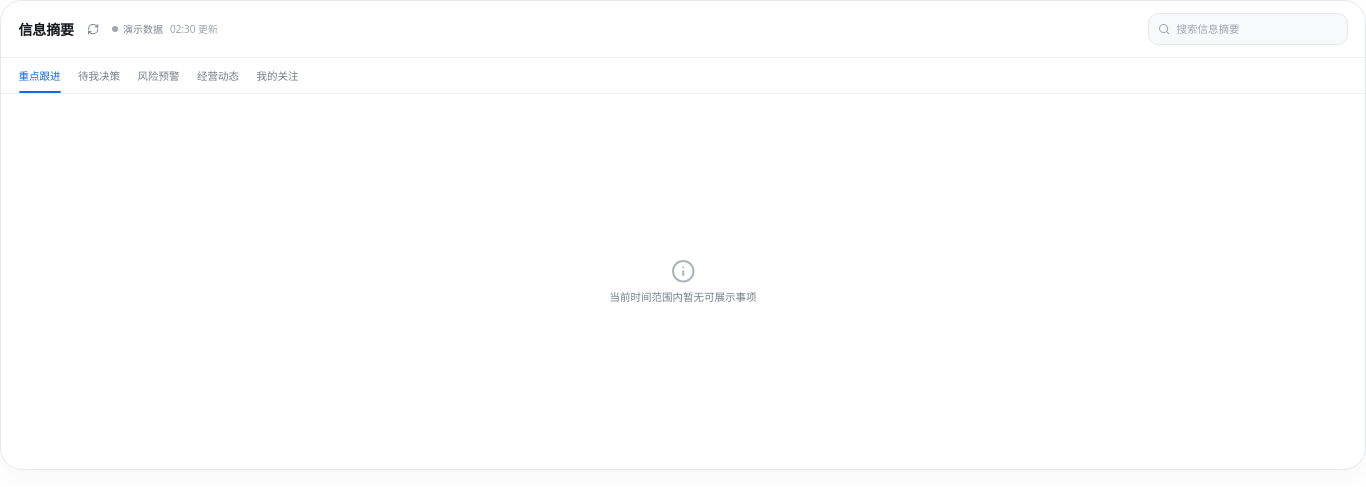
InformationDigestPanel v3.9 › uses directed empty copy for risk and watch
This screenshot has width=1366, height=487.
Click the tab with test id "digest-tab-risk".
click(158, 81)  # box [138,68,180,93]
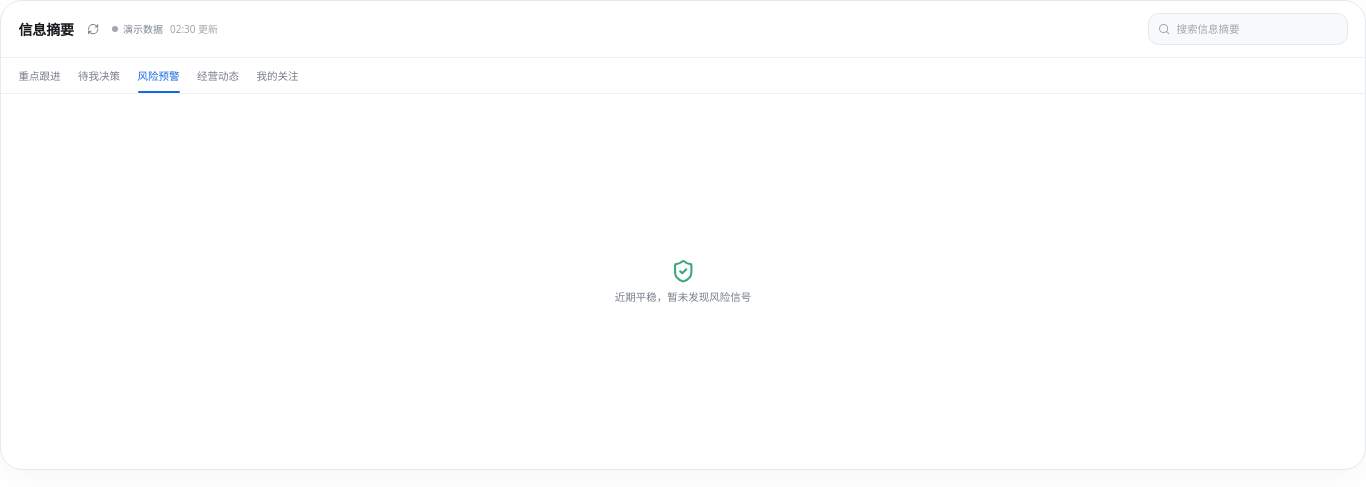
Expected: the text "近期平稳" is shown, [615,290,751,304]
Click the tab with test id "digest-tab-watch".
click(278, 81)  # box [256,68,298,93]
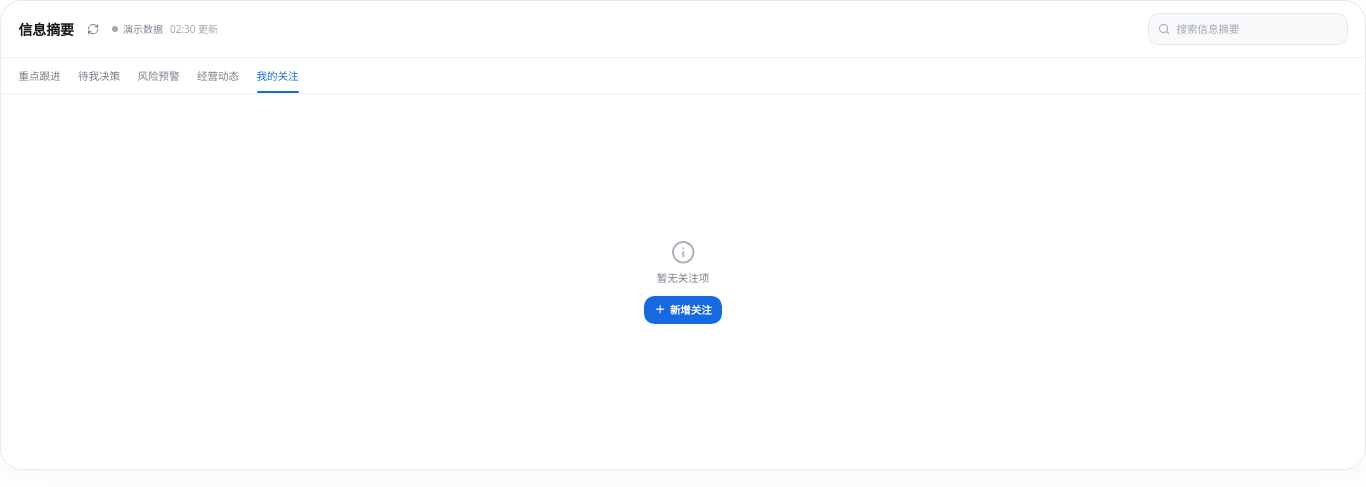
Expected: the text "暂无关注项" is shown, [657,271,709,285]
Expected: the text "新增关注" is shown, [644,296,722,324]
